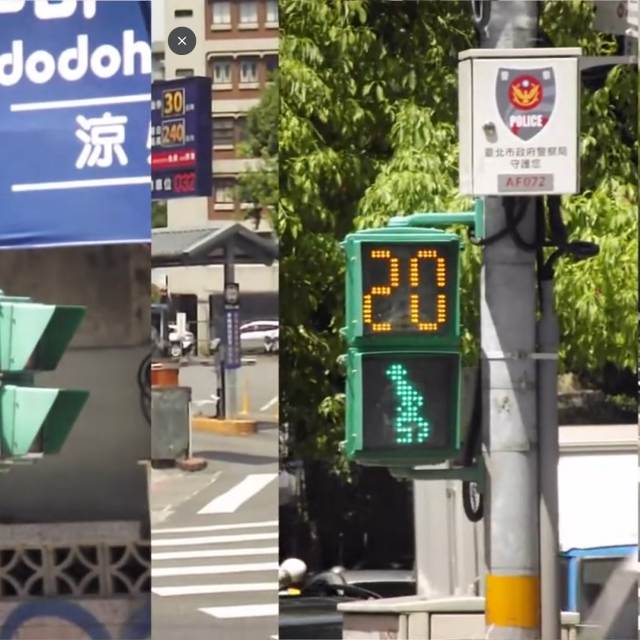green_light: (346, 234, 461, 457)
